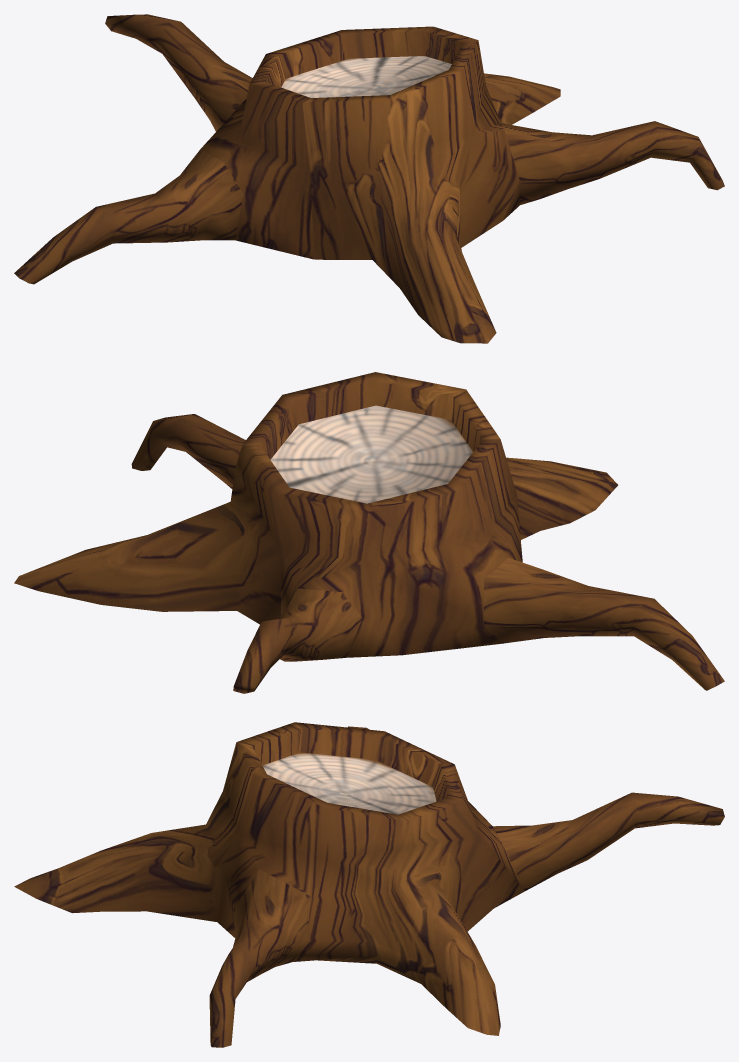
File: stump.fbx
3 views of the same model, one above another, from view 1: azimuth 30°, elevation 25°; view 2: azimuth 150°, elevation 25°; view 3: azimuth 270°, elevation 25° (orthographic). The views are drawn at different scales.
Parts seen in each view (by area): view 1: stump; view 2: stump; view 3: stump.
Part boxes in pixels (<box>): stump: <box>14,14,724,343</box>; stump: <box>14,372,724,693</box>; stump: <box>14,722,724,1047</box>.
Size of the model in its own units: 547 by 142 by 543.
